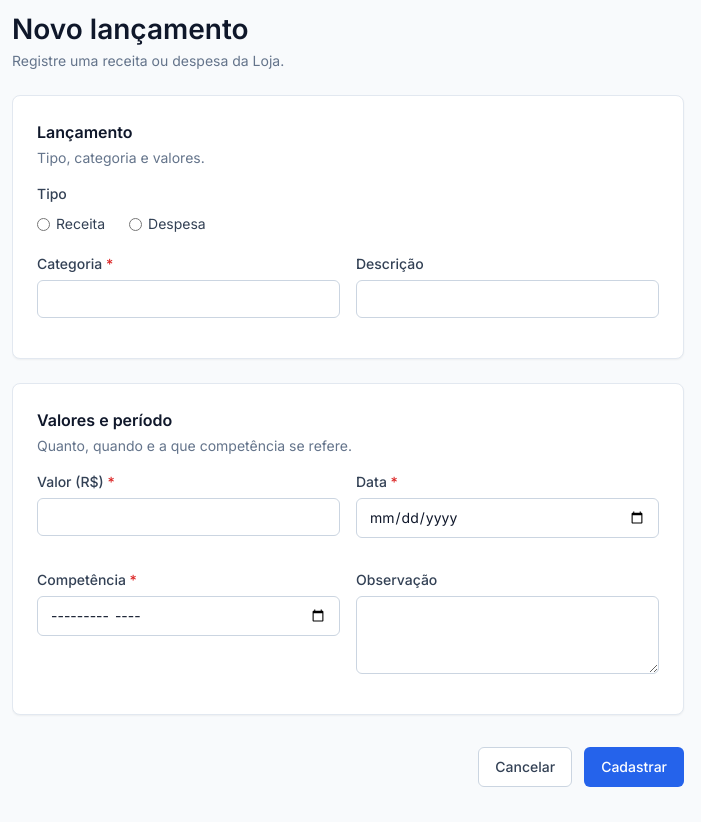
LancamentoFormPage — data não pode ser futura › bloqueia o envio com data futura e exibe o erro junto ao campo
This screenshot has width=701, height=822.
Click the radio button labelled "Receita" at point(44, 224), box [37, 218, 50, 230]
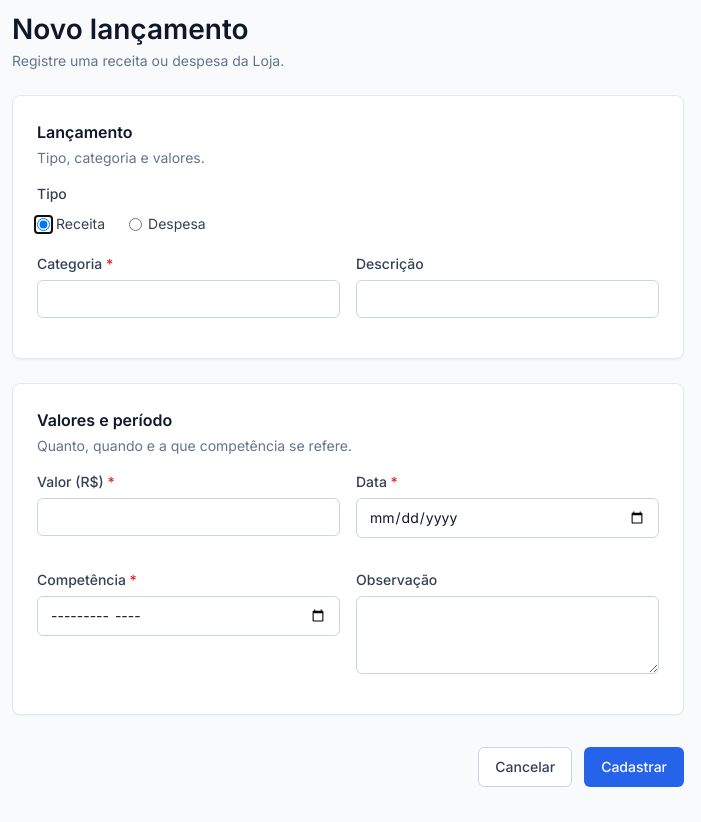
Type "Doação" into the field labelled "Categoria *" at point(188, 299), box [37, 280, 340, 318]
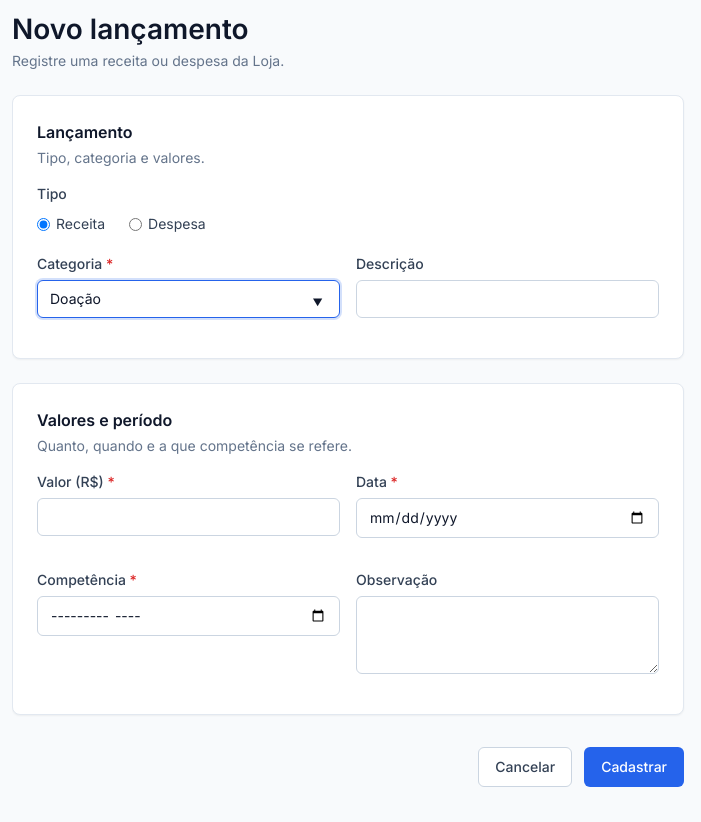
Type "50" into the number field labelled "Valor (R$) *" at point(188, 517), box [37, 498, 340, 536]
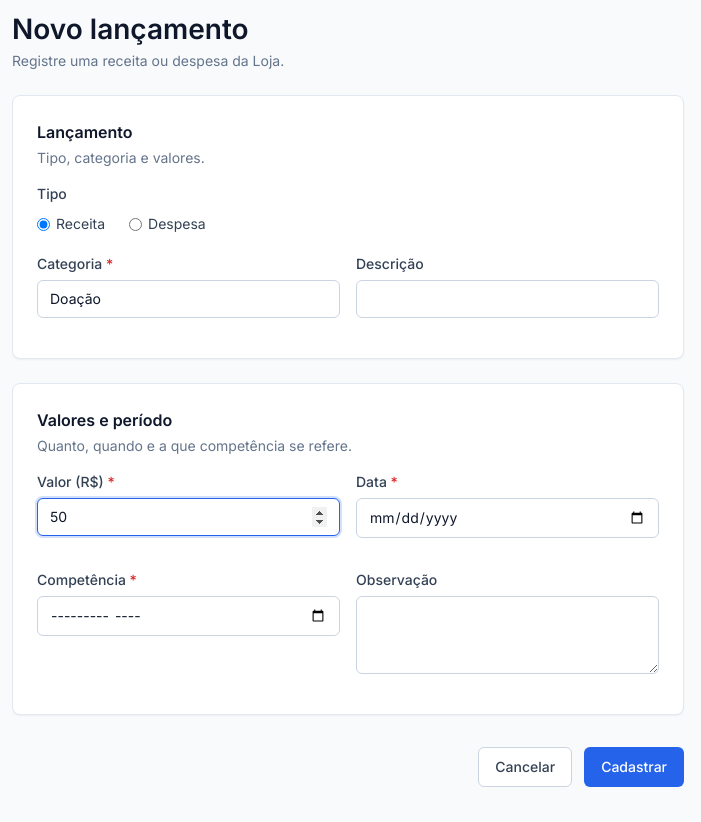
Type "2026-09-01" into the date field labelled "Data *" at point(508, 518), box [356, 498, 659, 538]
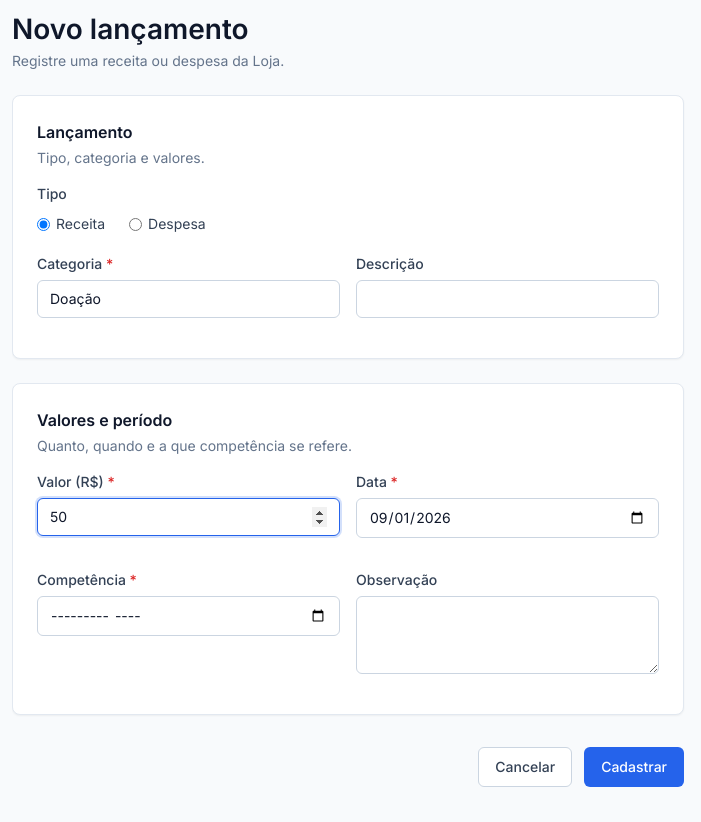
Type "2026-08" into the field labelled "Competência *" at point(188, 616), box [37, 596, 340, 636]
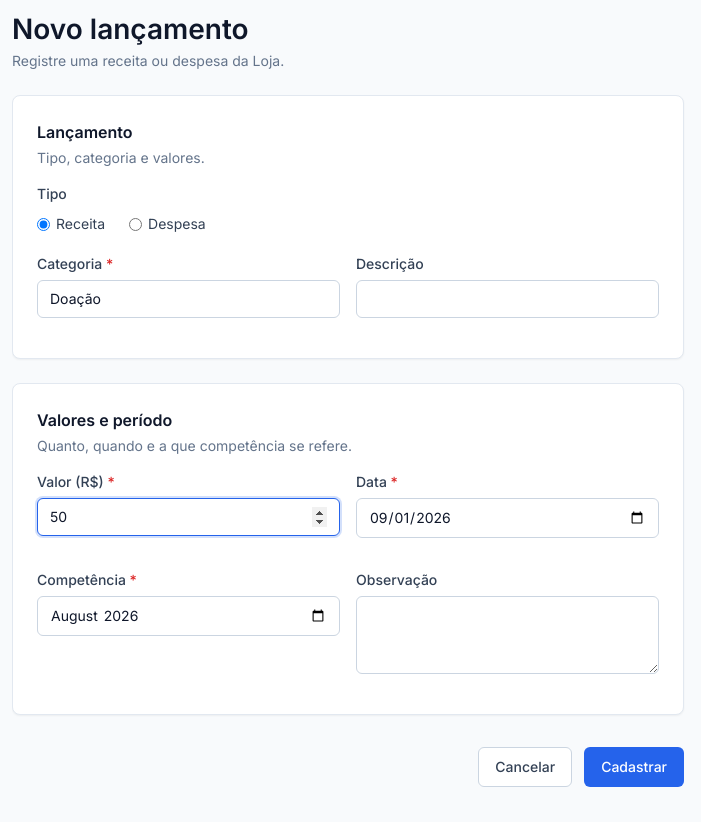
Submit the form named "Cadastrar"
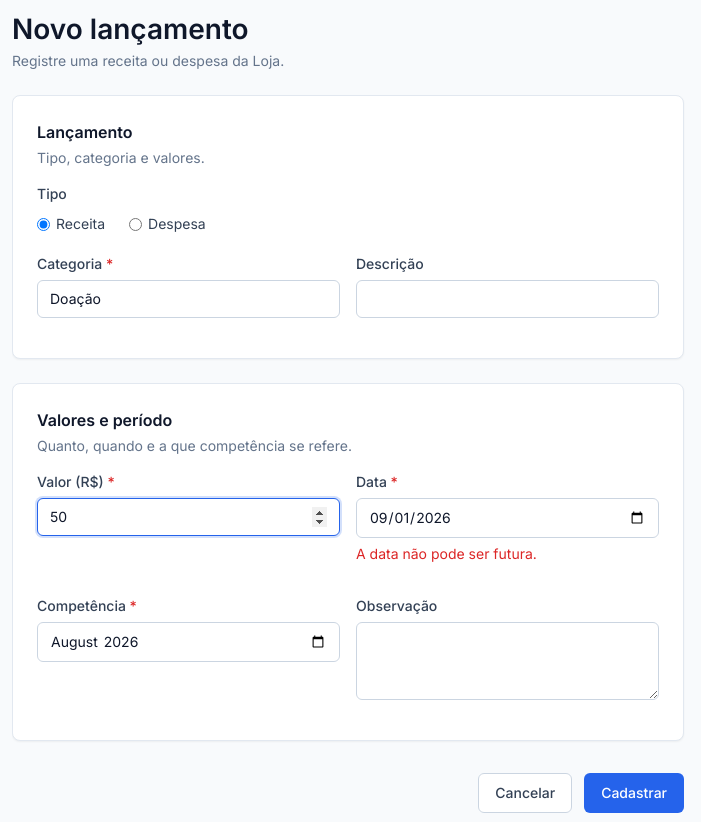
Expected: the text "A data não pode ser futura." is shown, [356, 545, 537, 562]
